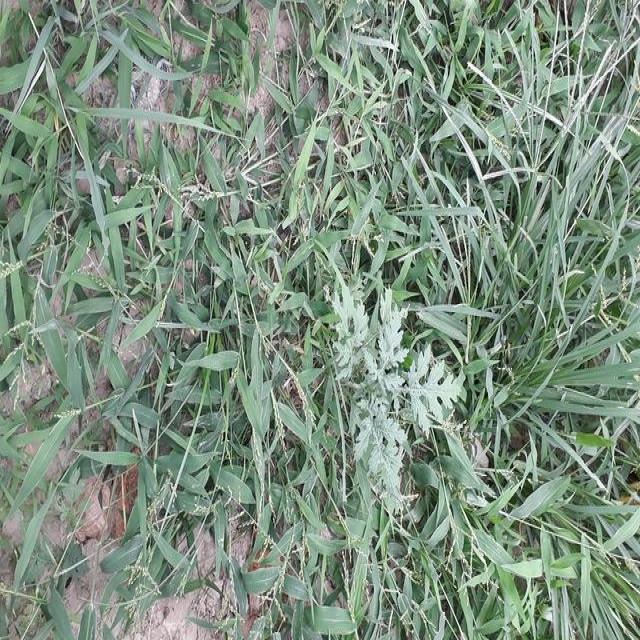weed: (223, 3, 640, 634), (0, 174, 213, 640), (161, 17, 277, 640), (3, 0, 200, 180)
